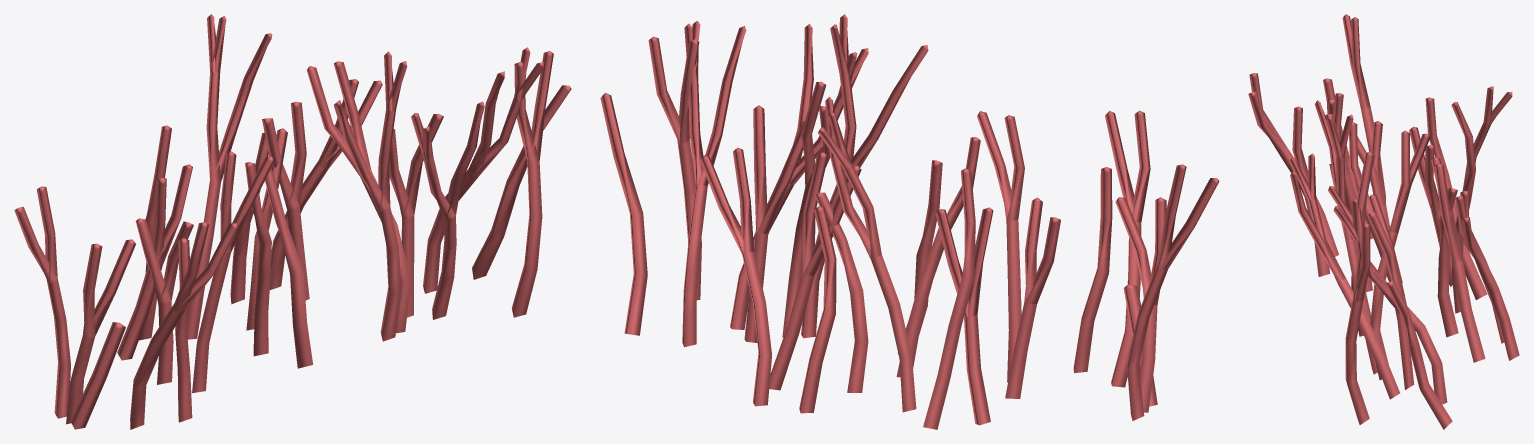
The model's file is coral_sponge_A_dense.fbx.
3 renders of one model, left to right at view 1: azimuth 30°, elevation 25°; view 2: azimuth 150°, elevation 25°; view 3: azimuth 270°, elevation 25°, orthographic. The views are drawn at different scales.
Visible parts, largest first — view 1: coral_sponge_A_dense; view 2: coral_sponge_A_dense; view 3: coral_sponge_A_dense.
Boxes of the visible parts, x1,y1,x2,y2 form: coral_sponge_A_dense: (14, 14, 571, 429); coral_sponge_A_dense: (600, 14, 1219, 429); coral_sponge_A_dense: (1248, 14, 1519, 429).
Size of the model in its own units: 216 by 107 by 104.
